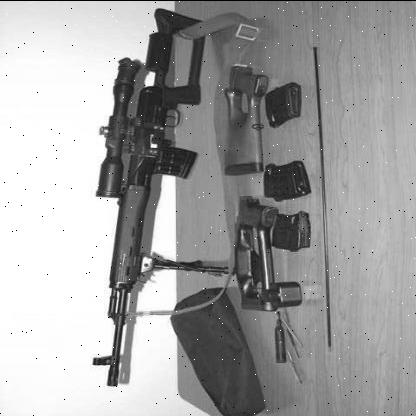rifle: (70, 0, 231, 383)
